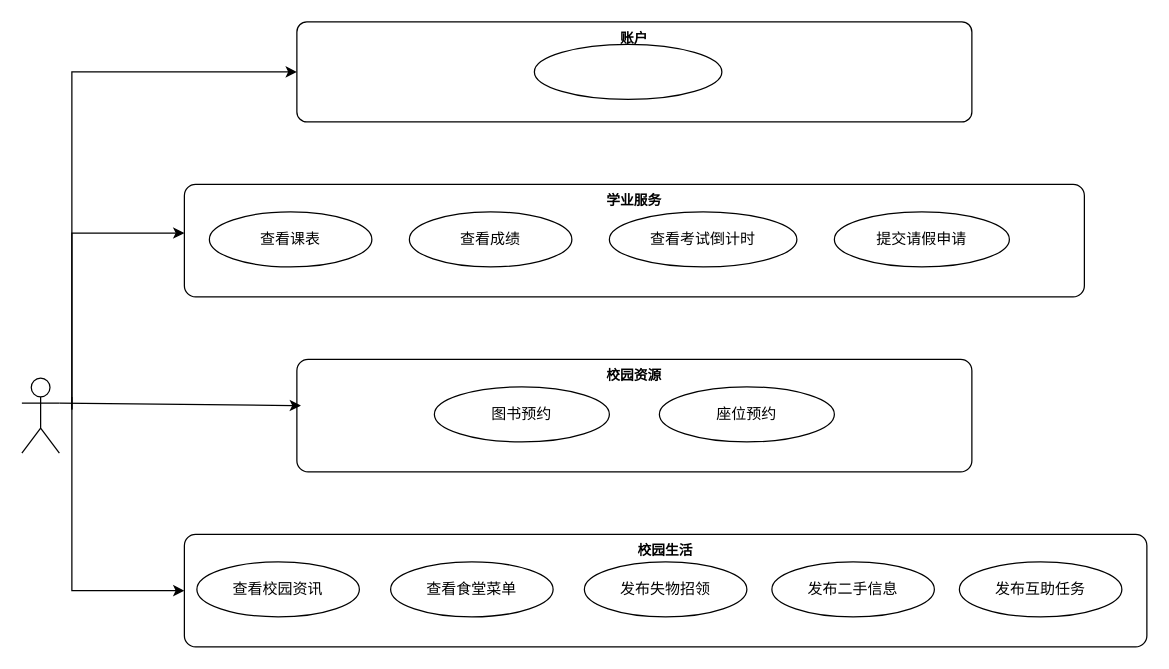
Image size: 1169x669. Some labels were removed from this diagram. The shapes that lost their labels are listed below. From the top down, each one's centre as x and y in pixels, then its label:
At (627,71): "登录 / 注册".
At (40,415): "Actor".
